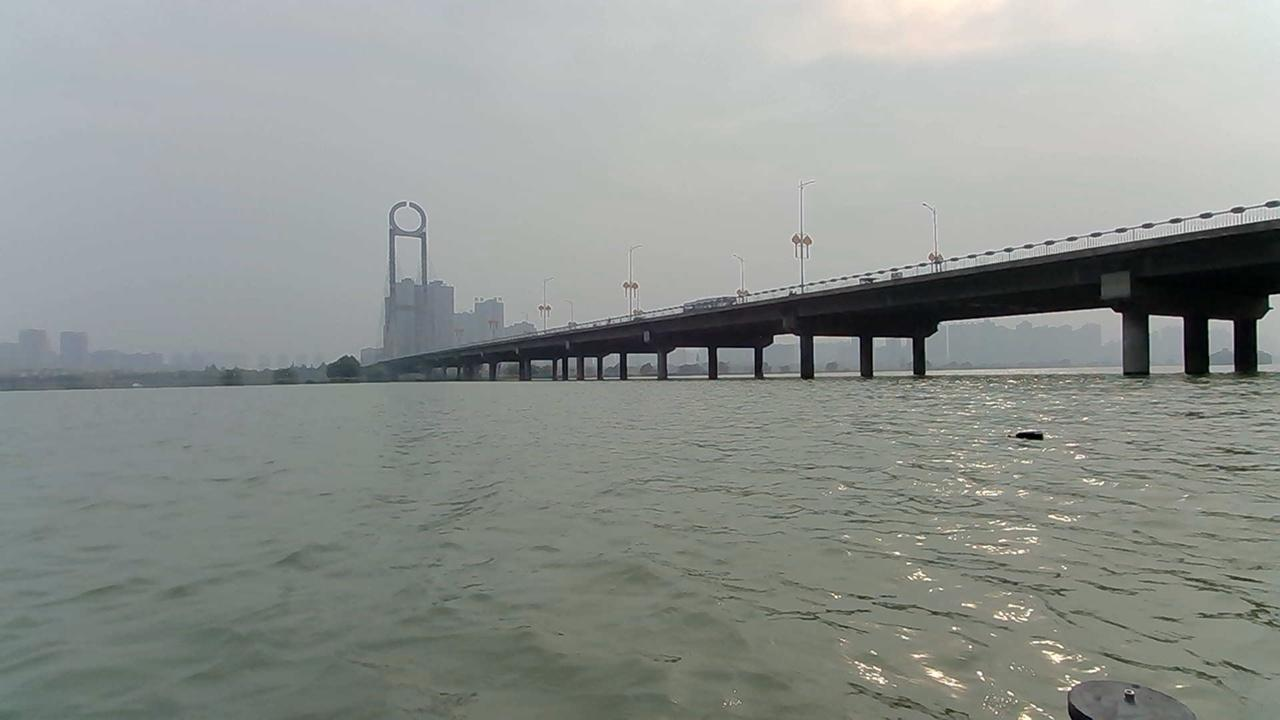bottle: (1009, 429, 1043, 439)
